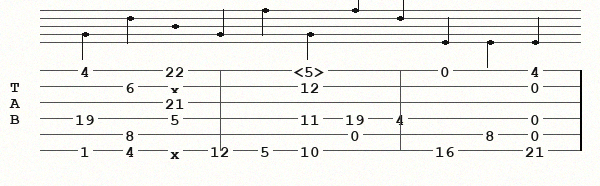0: (350, 127, 364, 141), (440, 63, 454, 77), (530, 79, 544, 93), (530, 127, 544, 141), (530, 111, 544, 125)
1: (80, 143, 94, 157)
10: (300, 143, 324, 157)
11: (300, 111, 324, 125)
12: (210, 143, 234, 157), (300, 79, 324, 93)
16: (435, 143, 459, 157)
19: (75, 111, 99, 125), (345, 111, 369, 125)
21: (165, 95, 189, 109), (525, 143, 549, 157)
22: (165, 63, 189, 77)
4: (80, 63, 94, 77), (125, 143, 139, 157), (395, 111, 409, 125), (530, 63, 544, 77)
5: (170, 111, 184, 125), (260, 143, 274, 157)
6: (125, 79, 139, 93)
8: (125, 127, 139, 141), (485, 127, 499, 141)
harmonic: (294, 63, 329, 77)
x: (170, 81, 184, 92), (170, 145, 184, 156)
